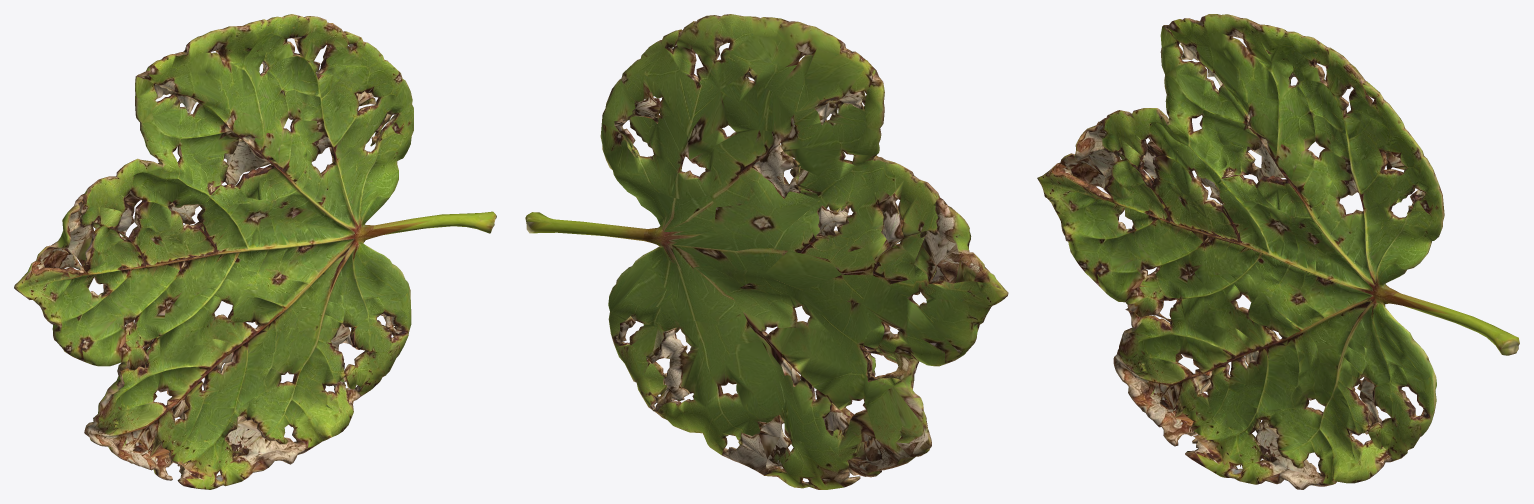
File: cotton_bacterial_blight.glb
The picture shows the model from 3 angles, left to right: view 1: azimuth 30°, elevation 25°; view 2: azimuth 150°, elevation 25°; view 3: azimuth 330°, elevation 25°; orthographic projection.
Parts seen in each view (by area): view 1: cotton_bacterial_blight; view 2: cotton_bacterial_blight; view 3: cotton_bacterial_blight.
Part boxes in pixels (box(x1,y1,x2,y2)): cotton_bacterial_blight: box(14, 14, 496, 489); cotton_bacterial_blight: box(525, 14, 1008, 489); cotton_bacterial_blight: box(1037, 14, 1519, 489).
Bounding box in the file's own units: 1.09 × 1 × 0.0821.
Materials: 1 (1 with a texture image).
